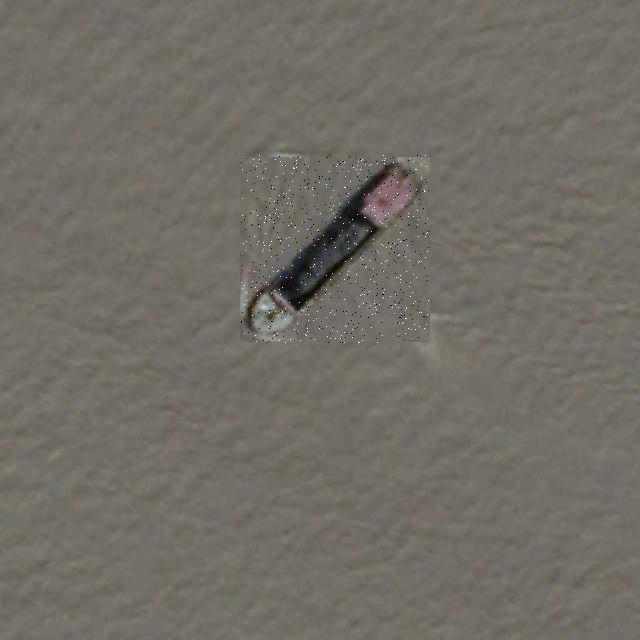boat: (241, 155, 429, 343)
